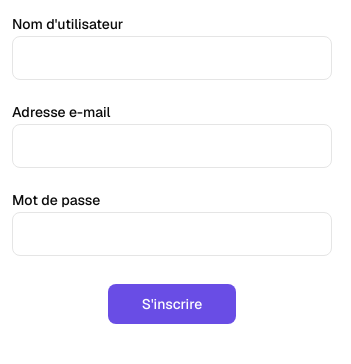
Test: RegisterForm › refuse un pseudo trop court sans appeler l'API
In the field labelled "Nom d'utilisateur": (172, 58) x1=12 y1=36 x2=332 y2=80, type "alice_dev"
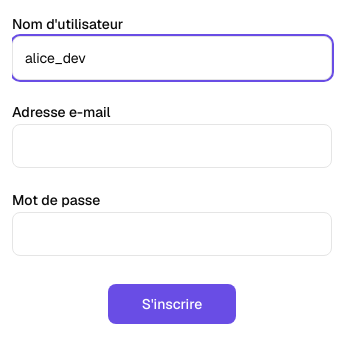
In the field labelled "Adresse e-mail": (172, 146) x1=12 y1=124 x2=332 y2=168, type "alice@example.test"
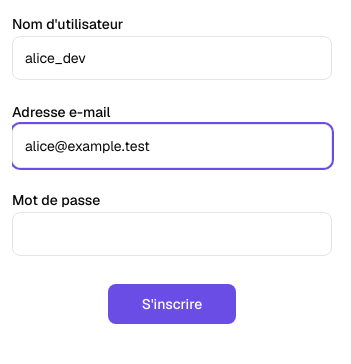
In the password field labelled "Mot de passe": (172, 234) x1=12 y1=212 x2=332 y2=256, type "PasswordDeTest123!"
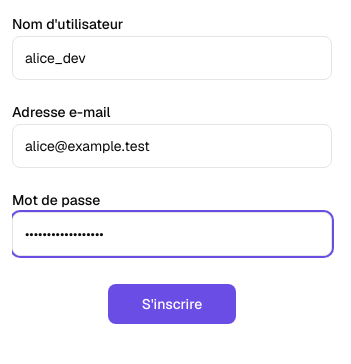
Replace the text in the field labelled "Nom d'utilisateur" with "ab": (172, 58) x1=12 y1=36 x2=332 y2=80
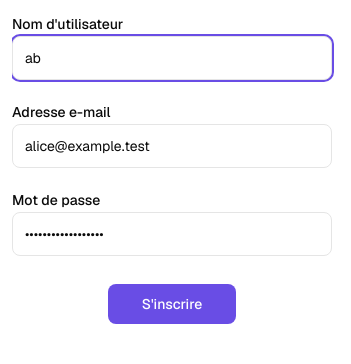
Click the button "S'inscrire": (172, 304) x1=108 y1=284 x2=236 y2=324
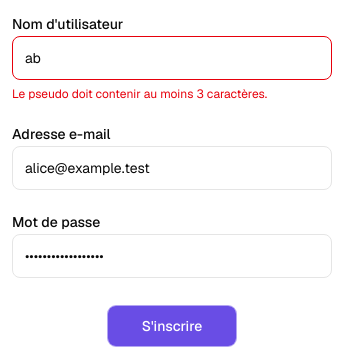
Check: the text "Le pseudo doit contenir au moins 3 caractères." is shown, box x1=12 y1=86 x2=267 y2=102
